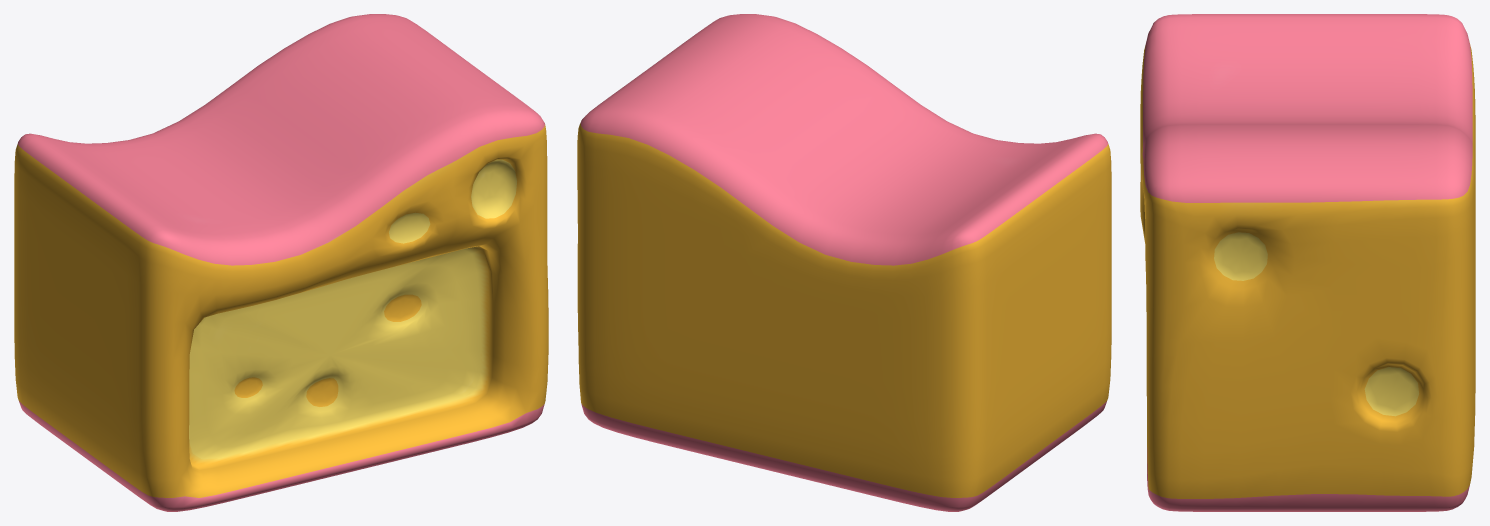
The model's file is House5.fbx.
The picture shows the model from 3 angles, left to right: view 1: azimuth 30°, elevation 25°; view 2: azimuth 150°, elevation 25°; view 3: azimuth 270°, elevation 25°; orthographic projection. The views are drawn at different scales.
Visible parts, largest first — view 1: Roundcube; view 2: Roundcube; view 3: Roundcube.
Boxes of the visible parts, bbox=[...] form: Roundcube: bbox=[14, 14, 548, 511]; Roundcube: bbox=[577, 14, 1111, 511]; Roundcube: bbox=[1140, 14, 1475, 511].
Bounding box in the file's own units: 299 × 231 × 200.
1 material, 1 textured.
